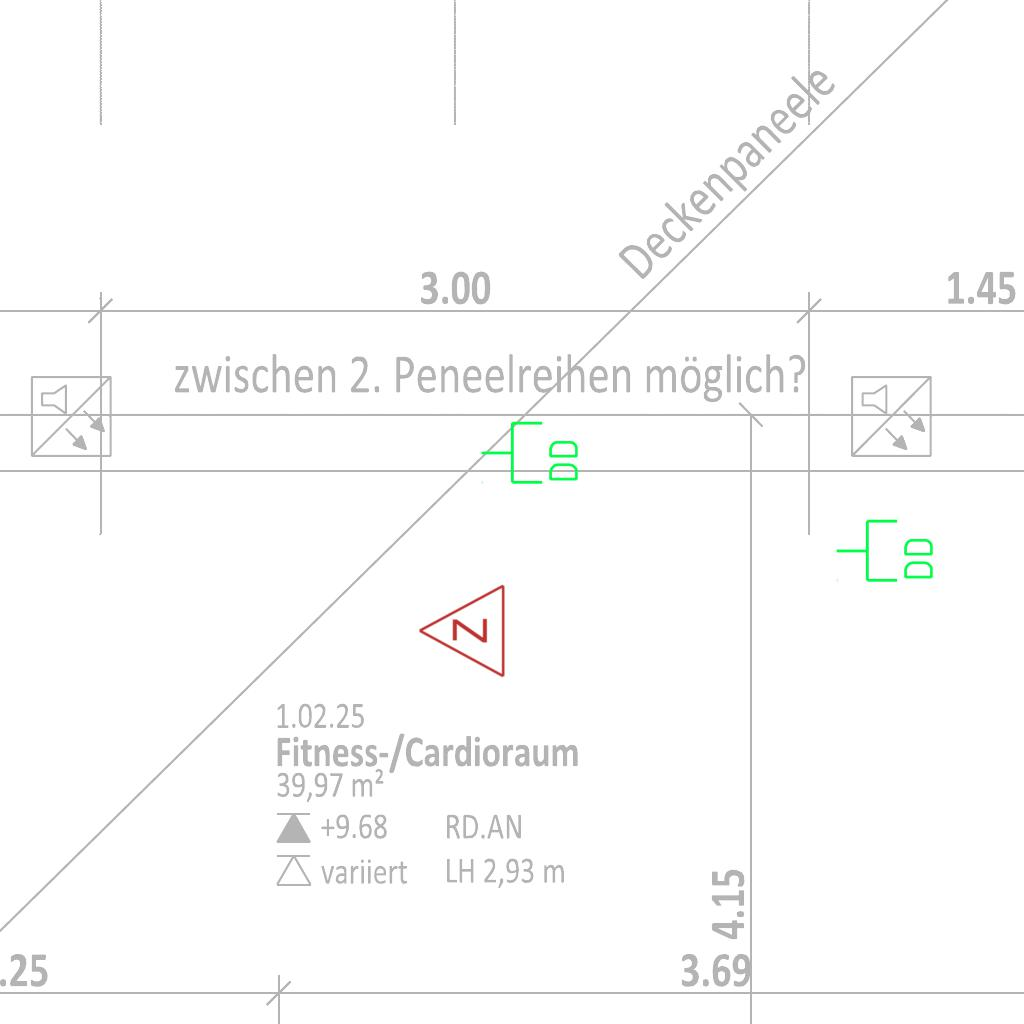Datenanschluss_zweifach: (834, 517, 937, 586), (479, 419, 582, 488)
Zimmersignalleuchte: (412, 583, 512, 681)
